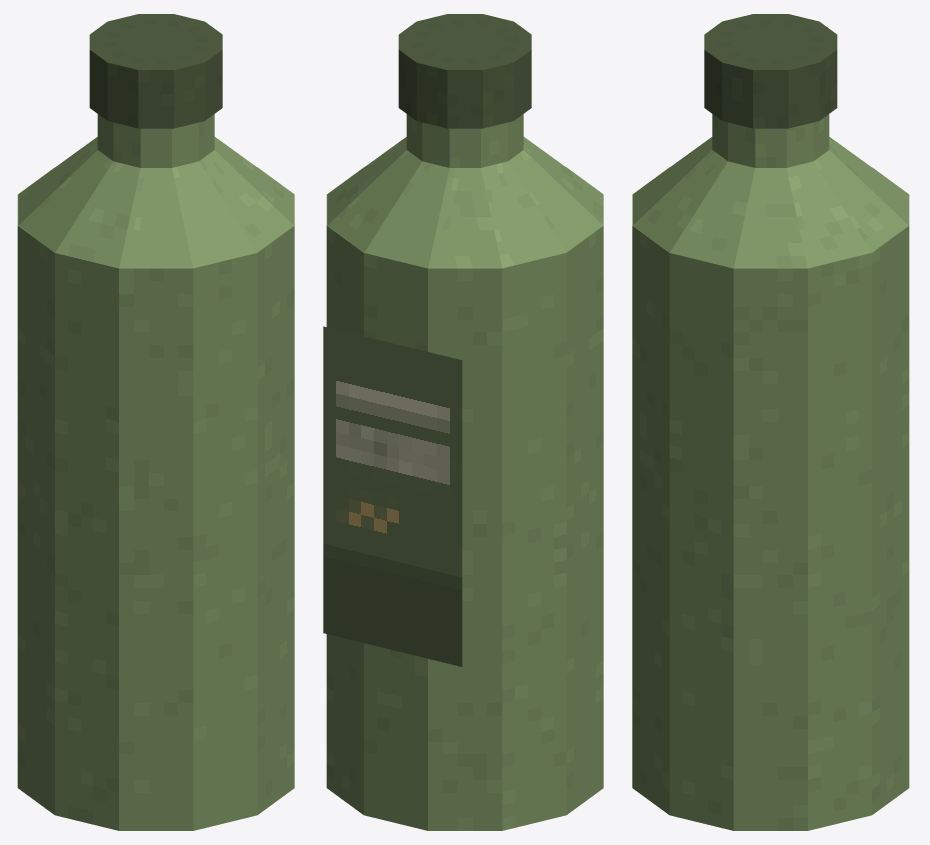
The model's file is bottle_plastic_seasoning.glb.
3 renders of one model, left to right at view 1: azimuth 30°, elevation 25°; view 2: azimuth 150°, elevation 25°; view 3: azimuth 270°, elevation 25°, orthographic.
Visible parts, largest first — view 1: block_bottle body, block_shoulder, block_ribbed closure, block_neck; view 2: block_bottle body, block_label, block_shoulder, block_ribbed closure, block_neck; view 3: block_bottle body, block_shoulder, block_ribbed closure, block_neck.
Boxes of the visible parts, bbox=[...] form: block_bottle body: bbox=[17, 167, 294, 830]; block_shoulder: bbox=[18, 137, 294, 268]; block_ribbed closure: bbox=[89, 14, 222, 128]; block_neck: bbox=[97, 114, 214, 167]; block_bottle body: bbox=[326, 167, 603, 830]; block_label: bbox=[323, 326, 462, 666]; block_shoulder: bbox=[327, 137, 603, 268]; block_ribbed closure: bbox=[398, 14, 531, 128]; block_neck: bbox=[406, 114, 523, 167]; block_bottle body: bbox=[632, 167, 909, 830]; block_shoulder: bbox=[633, 137, 908, 268]; block_ribbed closure: bbox=[704, 14, 837, 128]; block_neck: bbox=[712, 114, 829, 167].
Size of the model in its own units: 0.0618 by 0.18 by 0.0632.
1 material, 1 textured.
